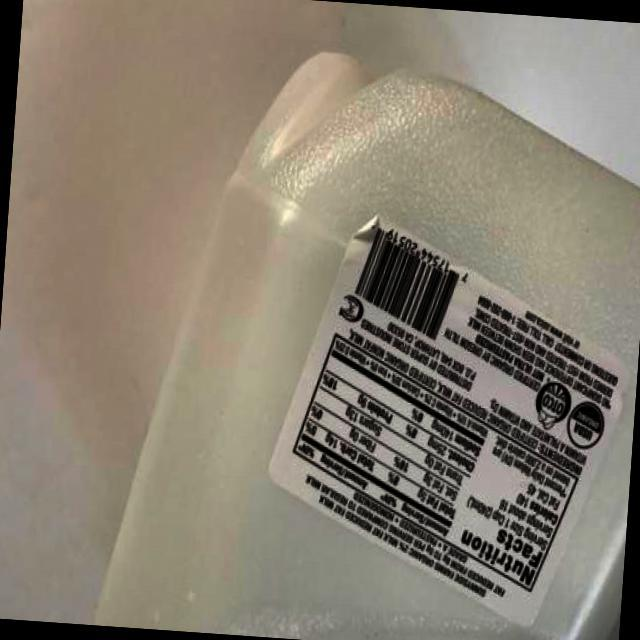HDPE Plastic: (89, 46, 639, 638)
